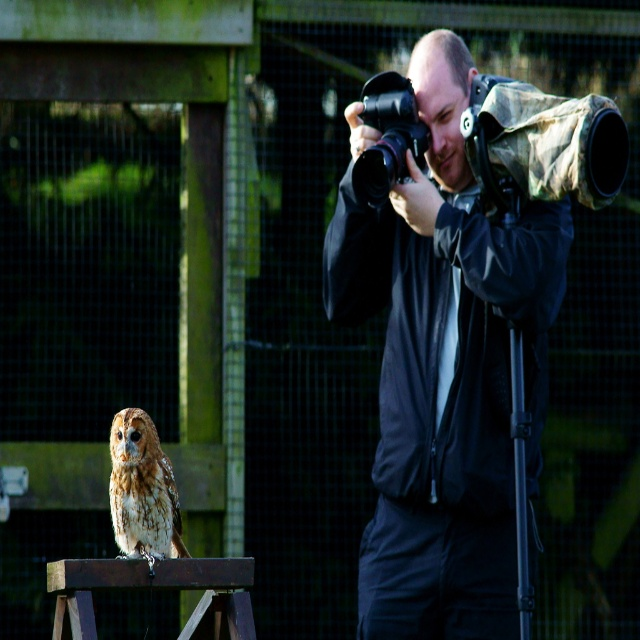Owl: (108, 409, 192, 583)
